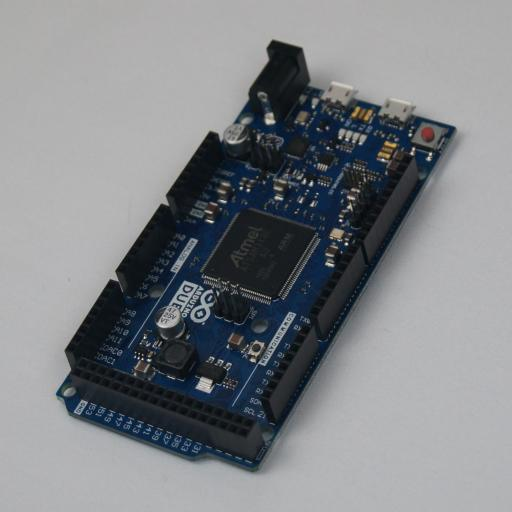Arduino Due: (56, 40, 456, 472)
